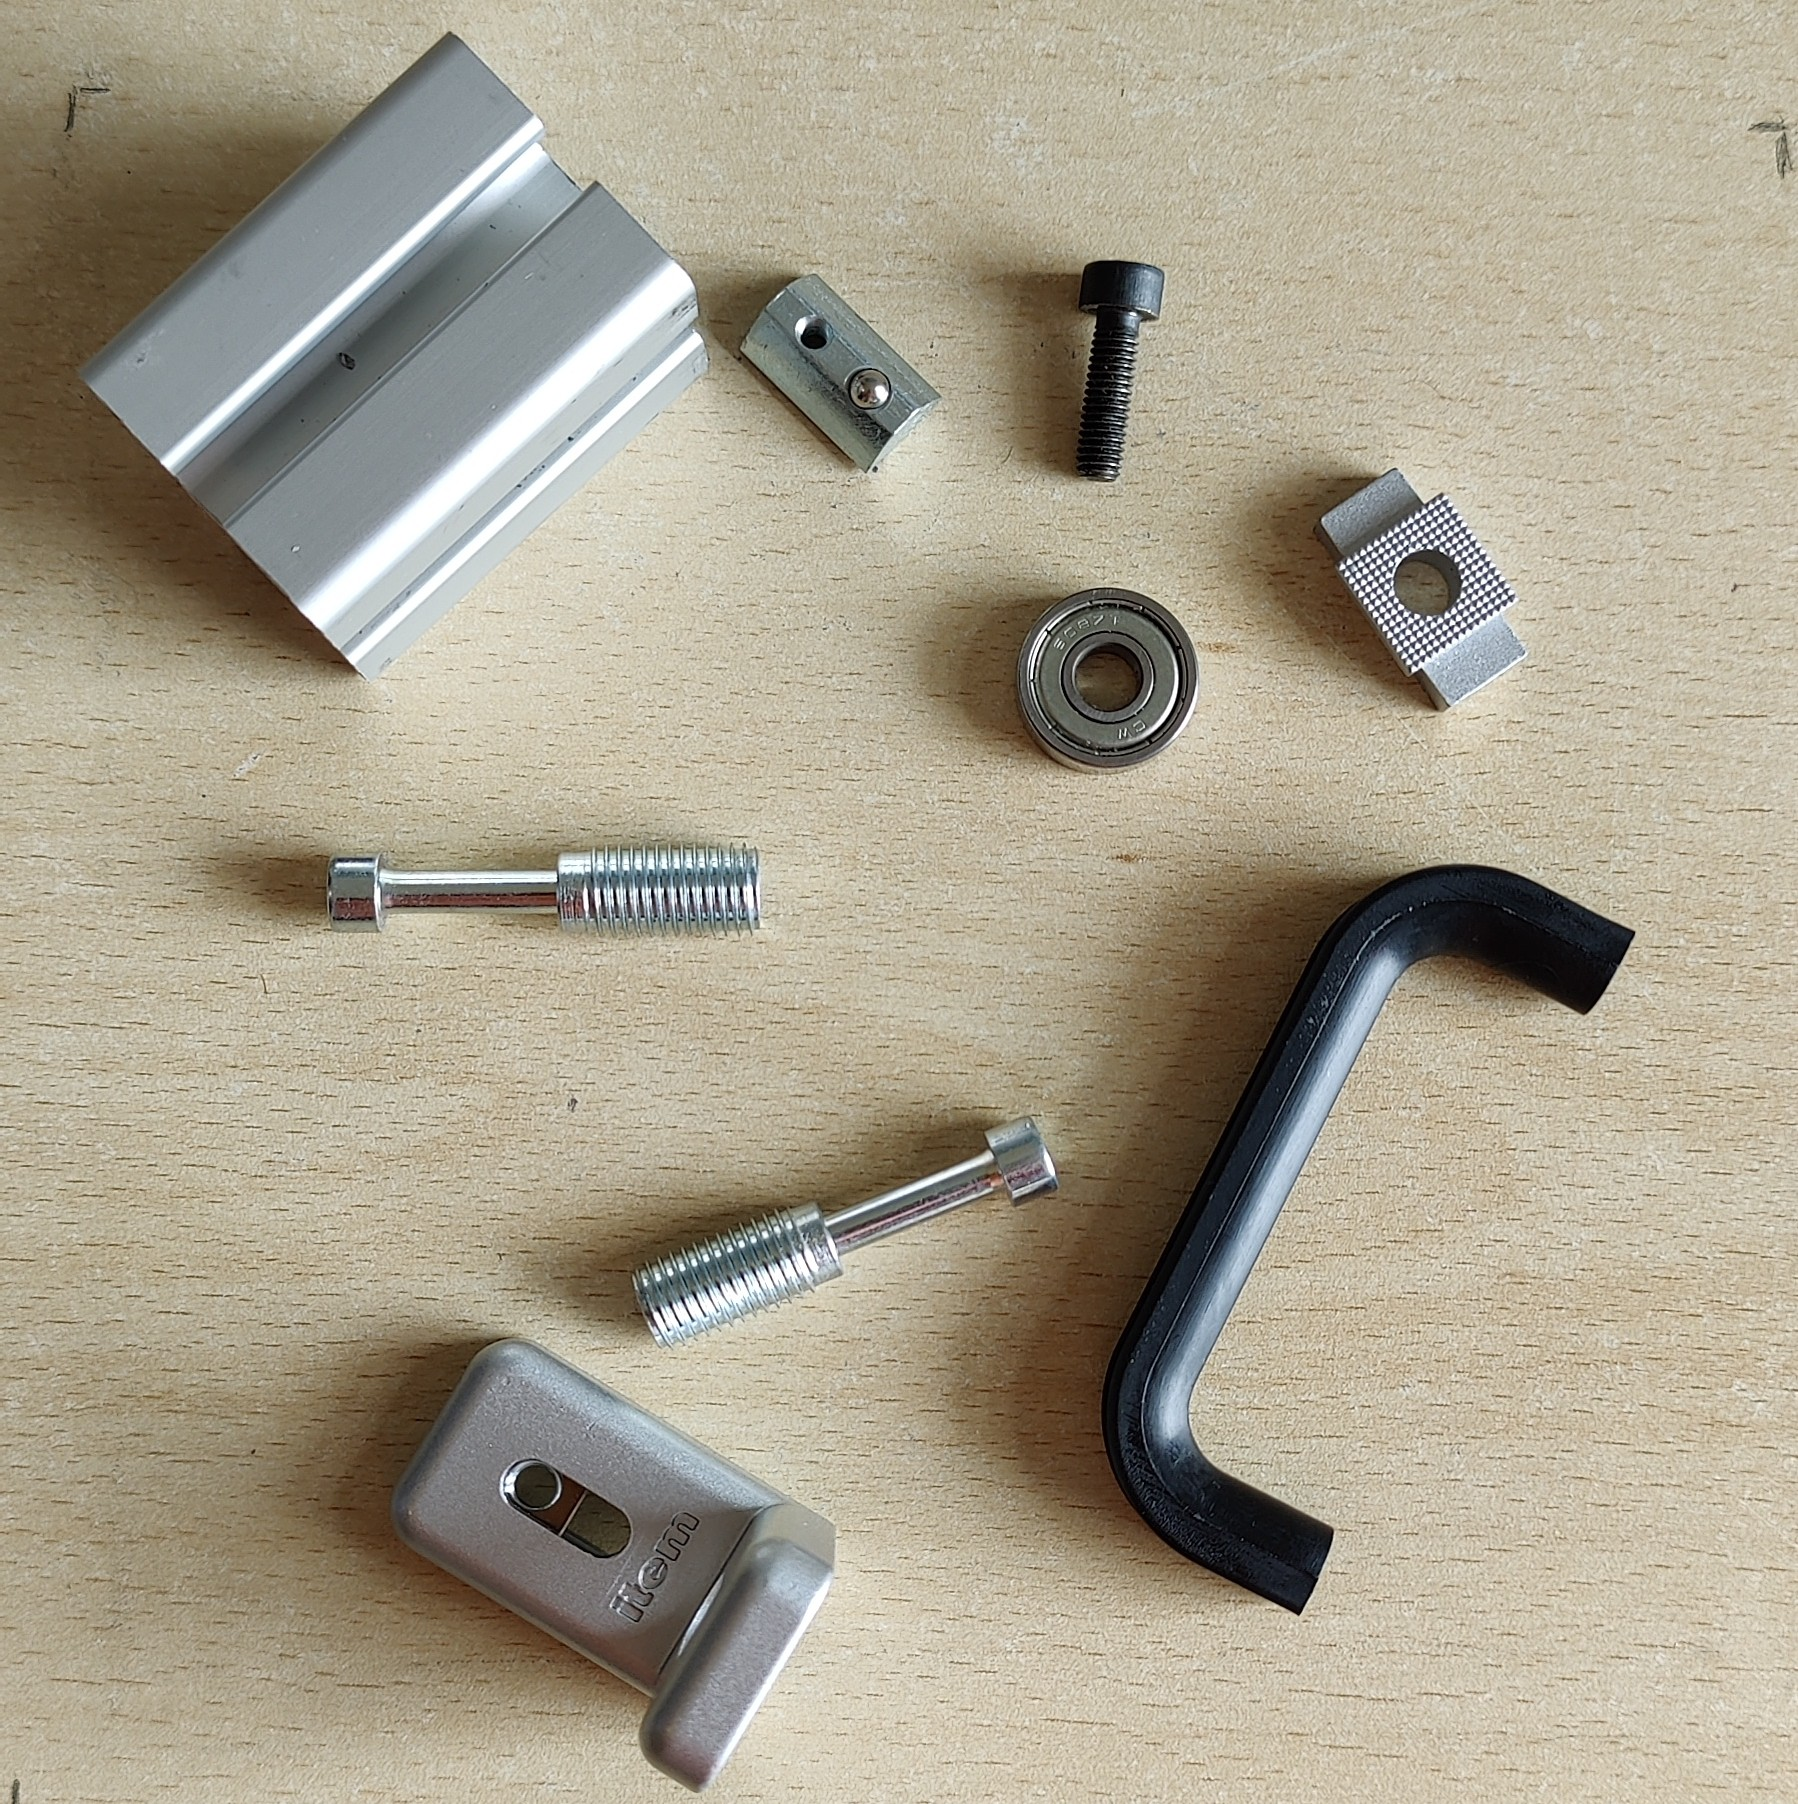Aluminium Extension: (69, 26, 713, 686)
Ball Bearing: (1009, 584, 1200, 779)
Multiwinkel: (389, 1337, 840, 1796)
Pull Handle: (1098, 862, 1638, 1618)
Shoulder Socket Head Cap Screw: (627, 1109, 1065, 1353), (321, 838, 769, 942)
Socket Head Cap Screw: (1069, 255, 1167, 486)
T Nut Square: (1307, 463, 1533, 716)
T Spring Nut: (733, 272, 945, 477)
